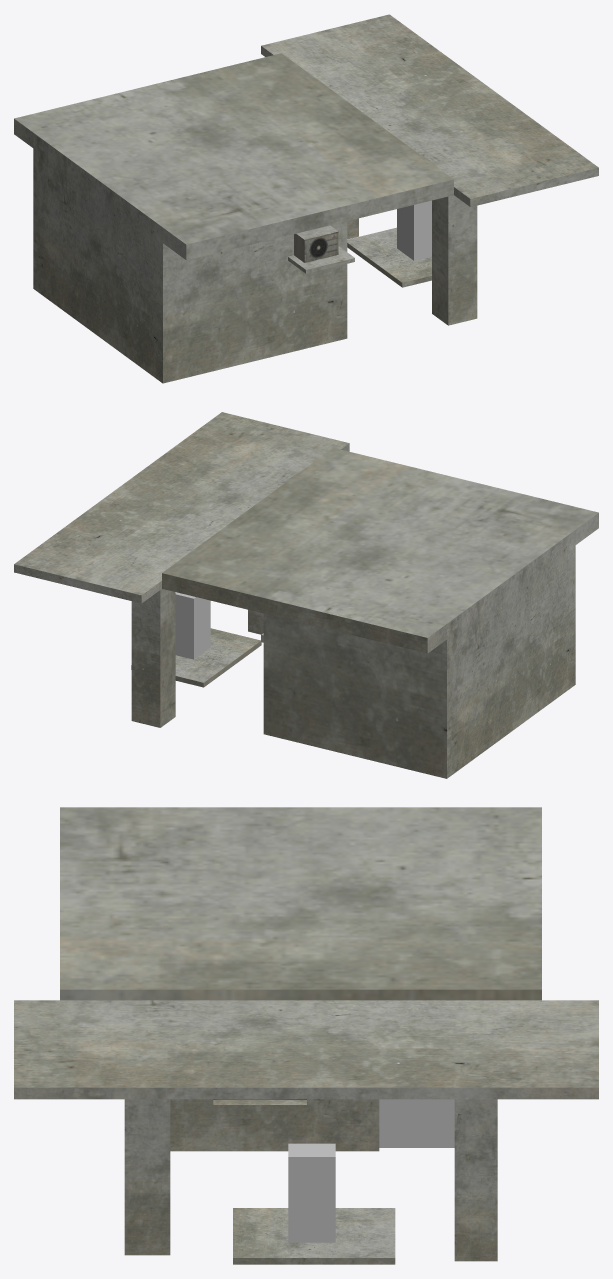
3 views of the same model, one above another, from view 1: azimuth 30°, elevation 25°; view 2: azimuth 150°, elevation 25°; view 3: azimuth 270°, elevation 25° (orthographic). The views are drawn at different scales.
Visible parts, largest first — view 1: Component_1_1; view 2: Component_1_1; view 3: Component_1_1.
Part boxes in pixels (x1,y1,x2,y2): Component_1_1: (14,14,598,383); Component_1_1: (14,412,598,778); Component_1_1: (14,807,598,1264).
Bounding box in the file's own units: 211 × 87.5 × 193.
